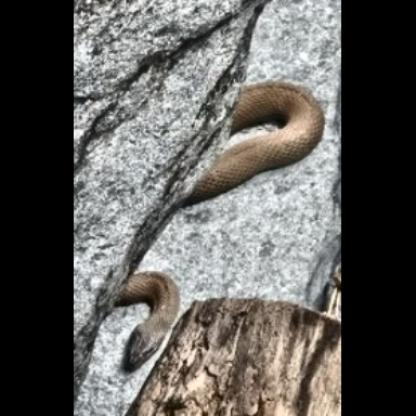Snake: (85, 0, 339, 416)
